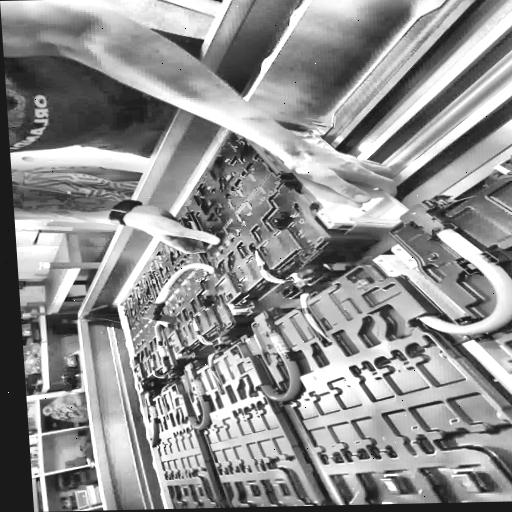high_volt_cable: (388, 205, 512, 340), (128, 256, 220, 322), (242, 317, 305, 405), (178, 376, 214, 434), (142, 402, 163, 448), (150, 322, 173, 363)
